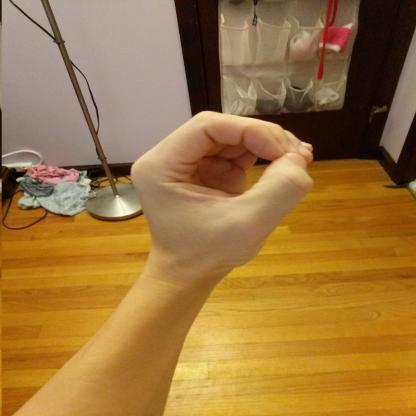O: (124, 107, 320, 275)
